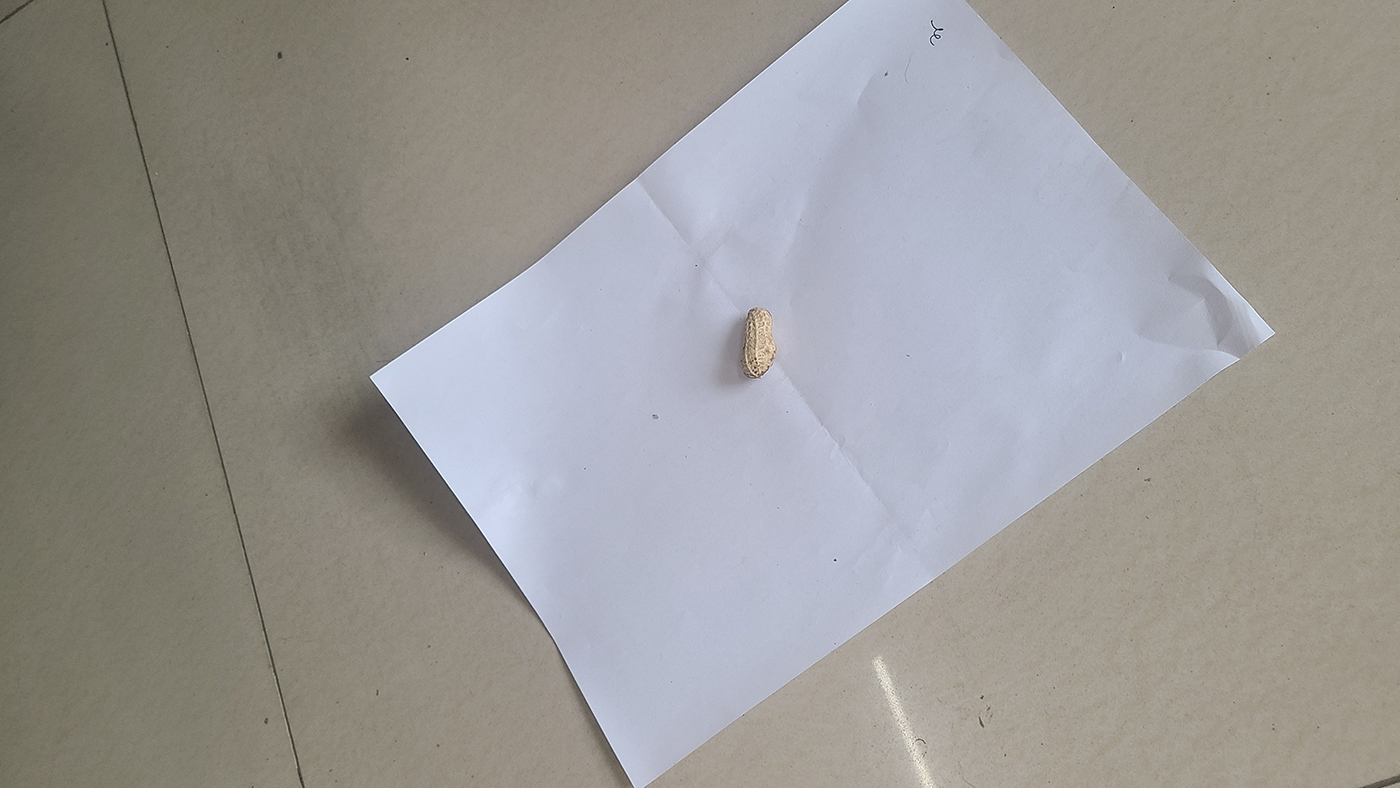h: (741, 305, 777, 381)
